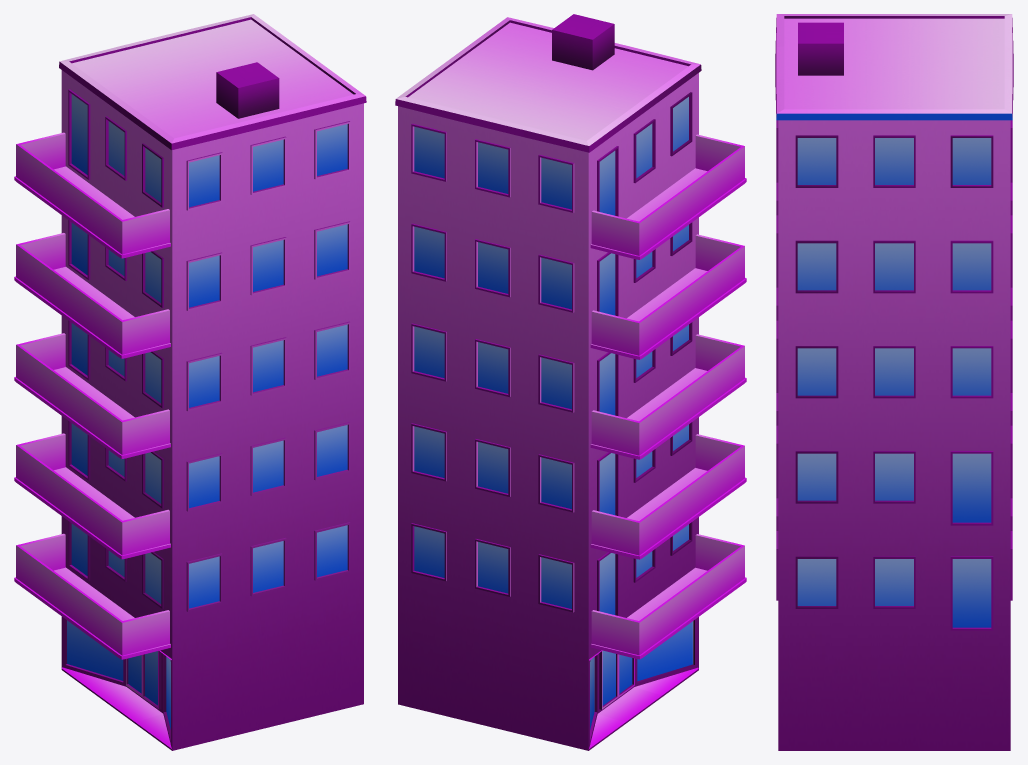
The model's file is miami_building_002.FBX.
3 views of the same model, side by side, from view 1: azimuth 30°, elevation 25°; view 2: azimuth 150°, elevation 25°; view 3: azimuth 270°, elevation 25° (orthographic). The views are drawn at different scales.
Visible parts, largest first — view 1: Box001; view 2: Box001; view 3: Box001.
Boxes of the visible parts, x1,y1,x2,y2 form: Box001: (14,14,366,750); Box001: (395,14,746,750); Box001: (775,14,1013,750).
Size of the model in its own units: 304 by 763 by 246.
